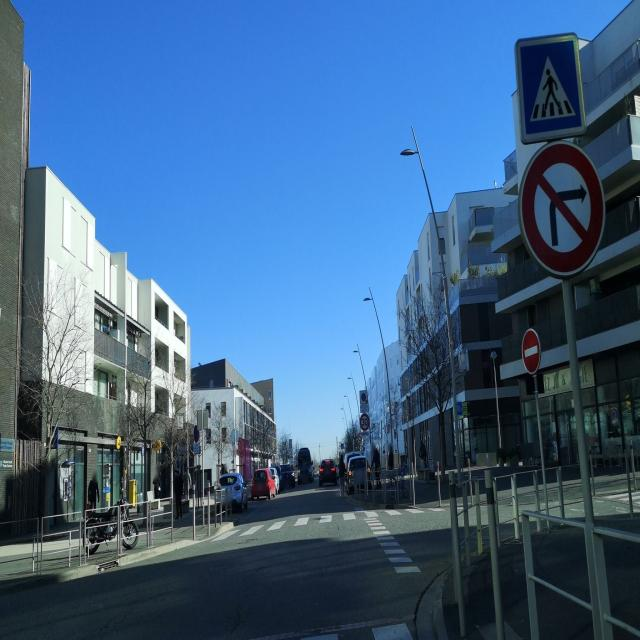forb_stopping: (193, 425, 199, 443)
